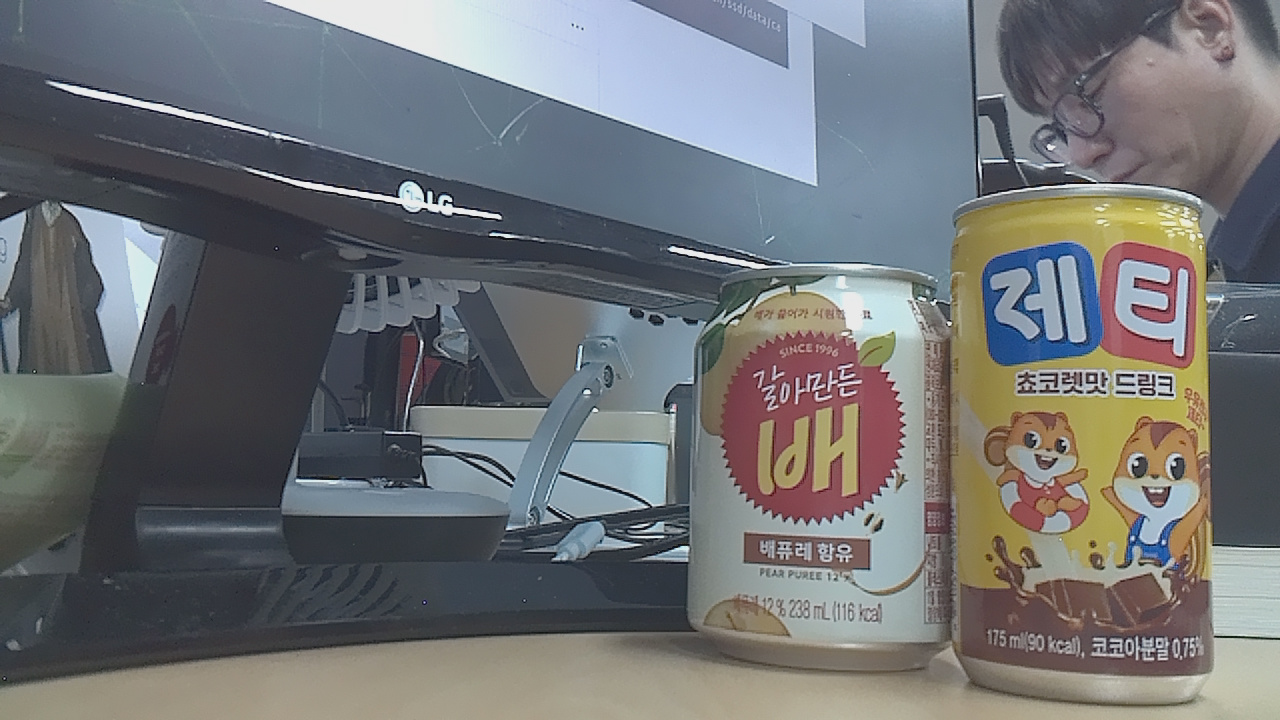IdH (pear juice): (689, 250, 951, 673)
jetty: (955, 178, 1227, 709)
